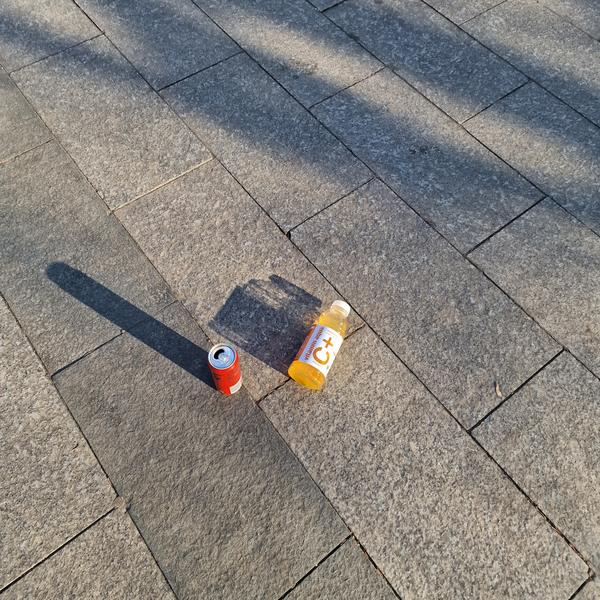can: (201, 339, 250, 401)
plastic_bottle: (284, 292, 361, 394)
